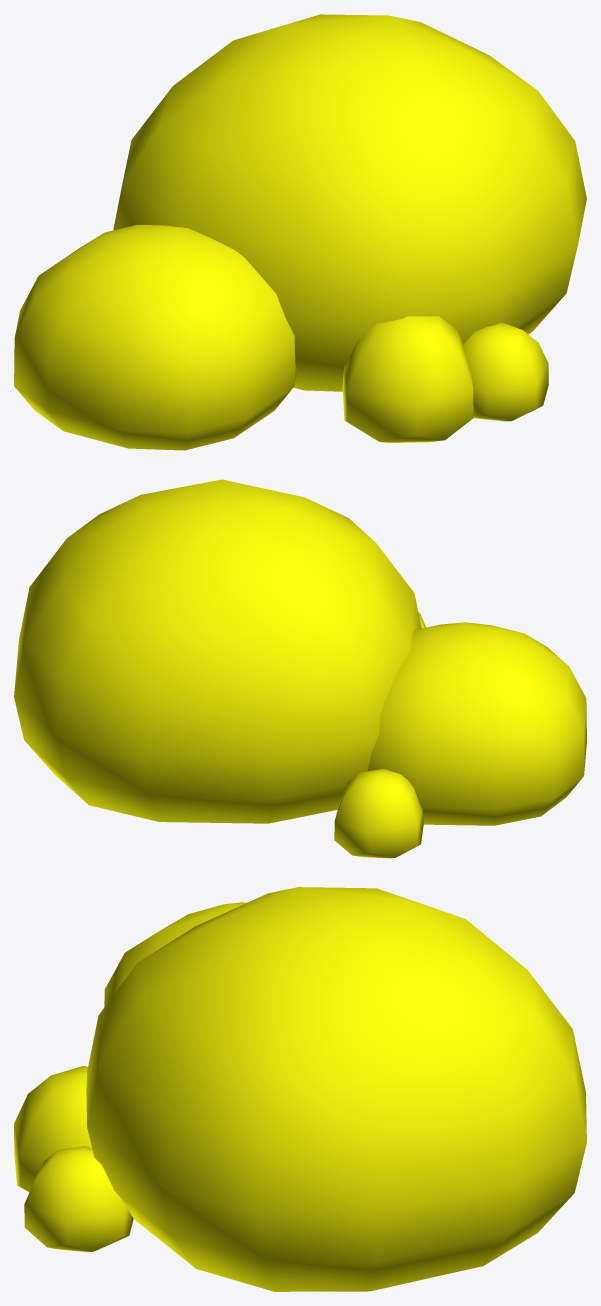
The model's file is kaykit-bush-1-e-color-1.glb.
3 renders of one model, top to bottom at view 1: azimuth 30°, elevation 25°; view 2: azimuth 150°, elevation 25°; view 3: azimuth 270°, elevation 25°, orthographic. The views are drawn at different scales.
Visible parts, largest first — view 1: Bush_1_E_Color1; view 2: Bush_1_E_Color1; view 3: Bush_1_E_Color1.
Part boxes in pixels (<box>): Bush_1_E_Color1: <box>14,14,586,450</box>; Bush_1_E_Color1: <box>14,479,586,858</box>; Bush_1_E_Color1: <box>14,887,586,1291</box>.
Bounding box in the file's own units: 1.58 × 0.8085 × 1.32.
